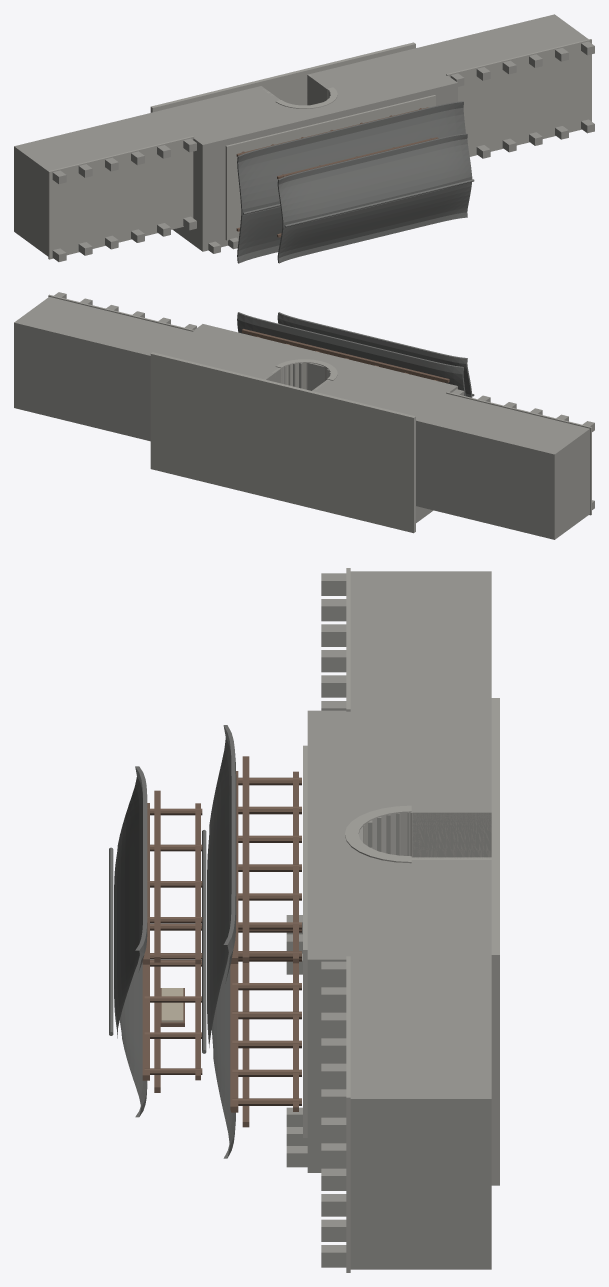
The model's file is SM_Zhengximen_LOD3.glb.
3 views of the same model, one above another, from view 1: azimuth 30°, elevation 25°; view 2: azimuth 150°, elevation 25°; view 3: azimuth 270°, elevation 25° (orthographic). The views are drawn at different scales.
Parts seen in each view (by area): view 1: GrayBrick, StoneFoundation, ClayRoofTile, DarkTimber; view 2: GrayBrick, StoneFoundation, ClayRoofTile, DarkTimber; view 3: GrayBrick, DarkTimber, ClayRoofTile, StoneFoundation.
Boxes of the visible parts, <box> form: GrayBrick: <box>14,14,594,261</box>; StoneFoundation: <box>48,39,591,259</box>; ClayRoofTile: <box>237,101,474,263</box>; DarkTimber: <box>236,107,438,237</box>; GrayBrick: <box>14,292,594,539</box>; StoneFoundation: <box>48,294,591,533</box>; ClayRoofTile: <box>237,312,474,397</box>; DarkTimber: <box>242,329,449,382</box>; GrayBrick: <box>286,571,491,1269</box>; DarkTimber: <box>142,756,301,1127</box>; ClayRoofTile: <box>109,725,236,1158</box>; StoneFoundation: <box>303,568,499,1272</box>.
Size of the model in its own units: 53.2 by 10.8 by 16.61.
